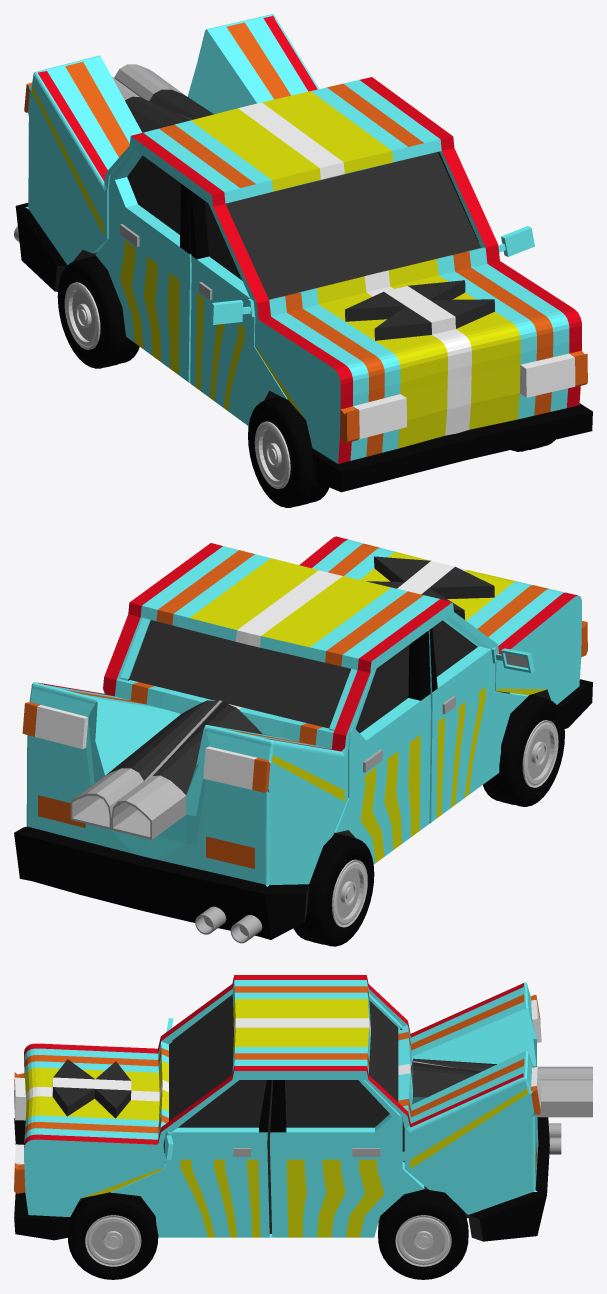
The picture shows the model from 3 angles, top to bottom: view 1: azimuth 30°, elevation 25°; view 2: azimuth 150°, elevation 25°; view 3: azimuth 270°, elevation 25°; orthographic projection. The views are drawn at different scales.
Visible parts, largest first — view 1: BODY37A, WHEEL.004, WHEEL.001; view 2: BODY37A, WHEEL.004, WHEEL.001, SHACMAN; view 3: BODY37A, WHEEL.002, WHEEL.003, SHACMAN.
Boxes of the visible parts, x1,y1,x2,y2 form: BODY37A: [15, 14, 592, 492]; WHEEL.004: [57, 256, 139, 368]; WHEEL.001: [248, 396, 329, 507]; BODY37A: [14, 536, 592, 939]; WHEEL.004: [293, 833, 374, 946]; WHEEL.001: [483, 694, 564, 806]; SHACMAN: [195, 906, 262, 943]; BODY37A: [14, 975, 592, 1241]; WHEEL.002: [378, 1189, 468, 1279]; WHEEL.003: [68, 1192, 158, 1279]; SHACMAN: [548, 1123, 561, 1154].
Bounding box in the file's own units: 131 × 98.16 × 249.
